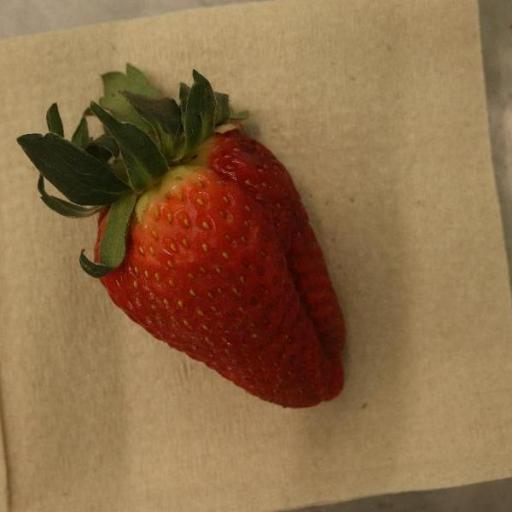Strawberry: (16, 65, 345, 410)
